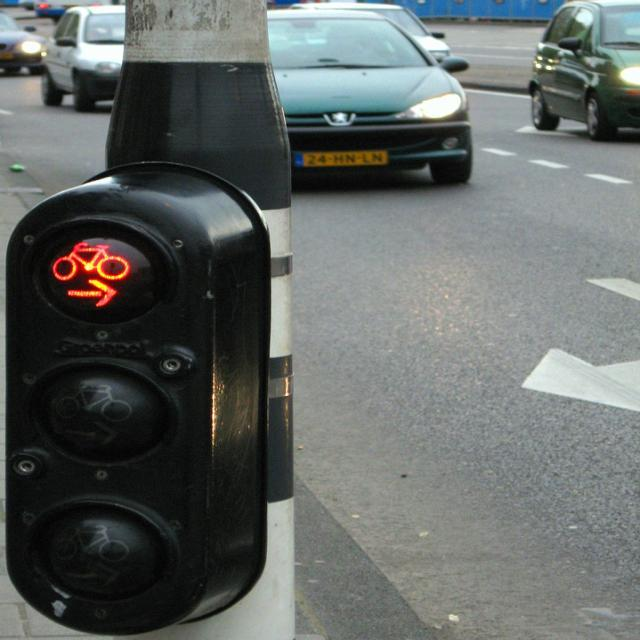traffic light: (4, 186, 246, 620)
